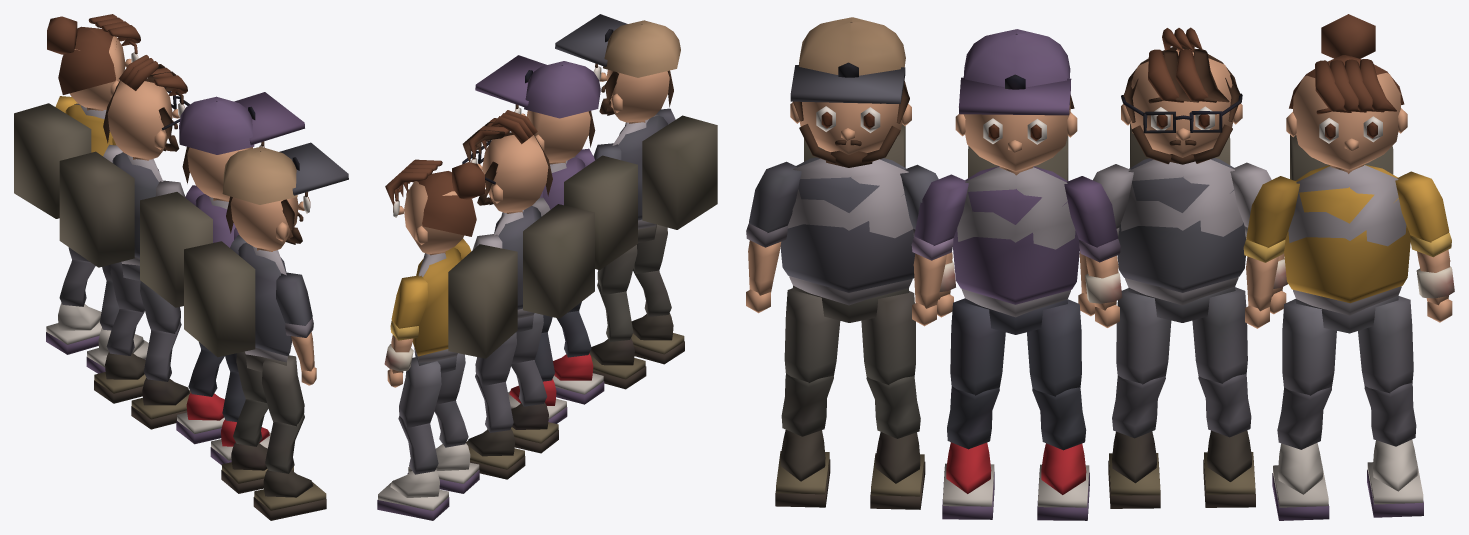
File: npc.survivor-group.aftermath.lod1.glb
3 views of the same model, side by side, from view 1: azimuth 30°, elevation 25°; view 2: azimuth 150°, elevation 25°; view 3: azimuth 270°, elevation 25° (orthographic). The views are drawn at different scales.
Visible parts, largest first — view 1: torso, survivor03_torso, head, survivor02_head, survivor04_torso, survivor02_torso, survivor03_head, survivor04_head, footR, legR, survivor03_footR, survivor04_footL (+18 smaller); view 2: survivor04_torso, torso, survivor03_torso, head, survivor02_head, survivor04_head, survivor02_torso, survivor03_head, survivor04_footL, survivor04_legL, survivor03_footL, footL (+20 smaller); view 3: survivor04_torso, torso, survivor02_torso, survivor03_torso, head, survivor02_head, survivor04_head, survivor03_head, survivor04_legR, survivor02_legR, survivor02_legL, survivor04_legL (+37 smaller).
Part boxes in pixels (x1=…): torso: x1=184, y1=241, x2=291, y2=362; survivor03_torso: x1=59, y1=151, x2=163, y2=267; head: x1=222, y1=142, x2=348, y2=251; survivor02_head: x1=179, y1=92, x2=304, y2=201; survivor04_torso: x1=14, y1=103, x2=112, y2=218; survivor02_torso: x1=140, y1=192, x2=235, y2=307; survivor03_head: x1=103, y1=55, x2=189, y2=160; survivor04_head: x1=47, y1=14, x2=140, y2=110; footR: x1=253, y1=469, x2=326, y2=520; legR: x1=262, y1=355, x2=304, y2=426; survivor03_footR: x1=131, y1=378, x2=190, y2=429; survivor04_footL: x1=46, y1=302, x2=101, y2=354; survivor04_torso: x1=412, y1=244, x2=517, y2=362; torso: x1=612, y1=114, x2=717, y2=229; survivor03_torso: x1=494, y1=204, x2=594, y2=318; head: x1=555, y1=14, x2=680, y2=123; survivor02_head: x1=475, y1=55, x2=600, y2=164; survivor04_head: x1=385, y1=159, x2=484, y2=255; survivor02_torso: x1=542, y1=155, x2=637, y2=270; survivor03_head: x1=462, y1=110, x2=552, y2=213; survivor04_footL: x1=377, y1=470, x2=449, y2=520; survivor04_legL: x1=399, y1=357, x2=441, y2=427; survivor03_footL: x1=466, y1=429, x2=525, y2=479; footL: x1=589, y1=338, x2=646, y2=389; survivor04_torso: x1=1284, y1=135, x2=1410, y2=315; torso: x1=780, y1=124, x2=915, y2=305; survivor02_torso: x1=953, y1=135, x2=1079, y2=317; survivor03_torso: x1=1117, y1=123, x2=1246, y2=305; head: x1=790, y1=17, x2=911, y2=167; survivor02_head: x1=955, y1=29, x2=1077, y2=175; survivor04_head: x1=1286, y1=14, x2=1407, y2=173; survivor03_head: x1=1121, y1=27, x2=1242, y2=164; survivor04_legR: x1=1282, y1=299, x2=1336, y2=395; survivor02_legR: x1=950, y1=298, x2=1005, y2=395; survivor02_legL: x1=1027, y1=299, x2=1081, y2=396; survivor04_legL: x1=1358, y1=296, x2=1413, y2=393.
Bounding box in the file's own units: 0.7924 × 1.79 × 2.5.
